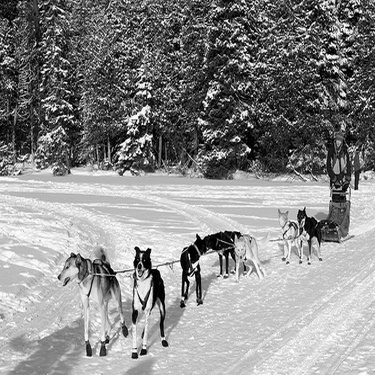dog: (51, 221, 129, 365), (121, 238, 173, 360), (165, 227, 214, 317), (223, 221, 273, 297), (287, 208, 341, 278), (199, 220, 250, 293), (265, 202, 306, 270)
